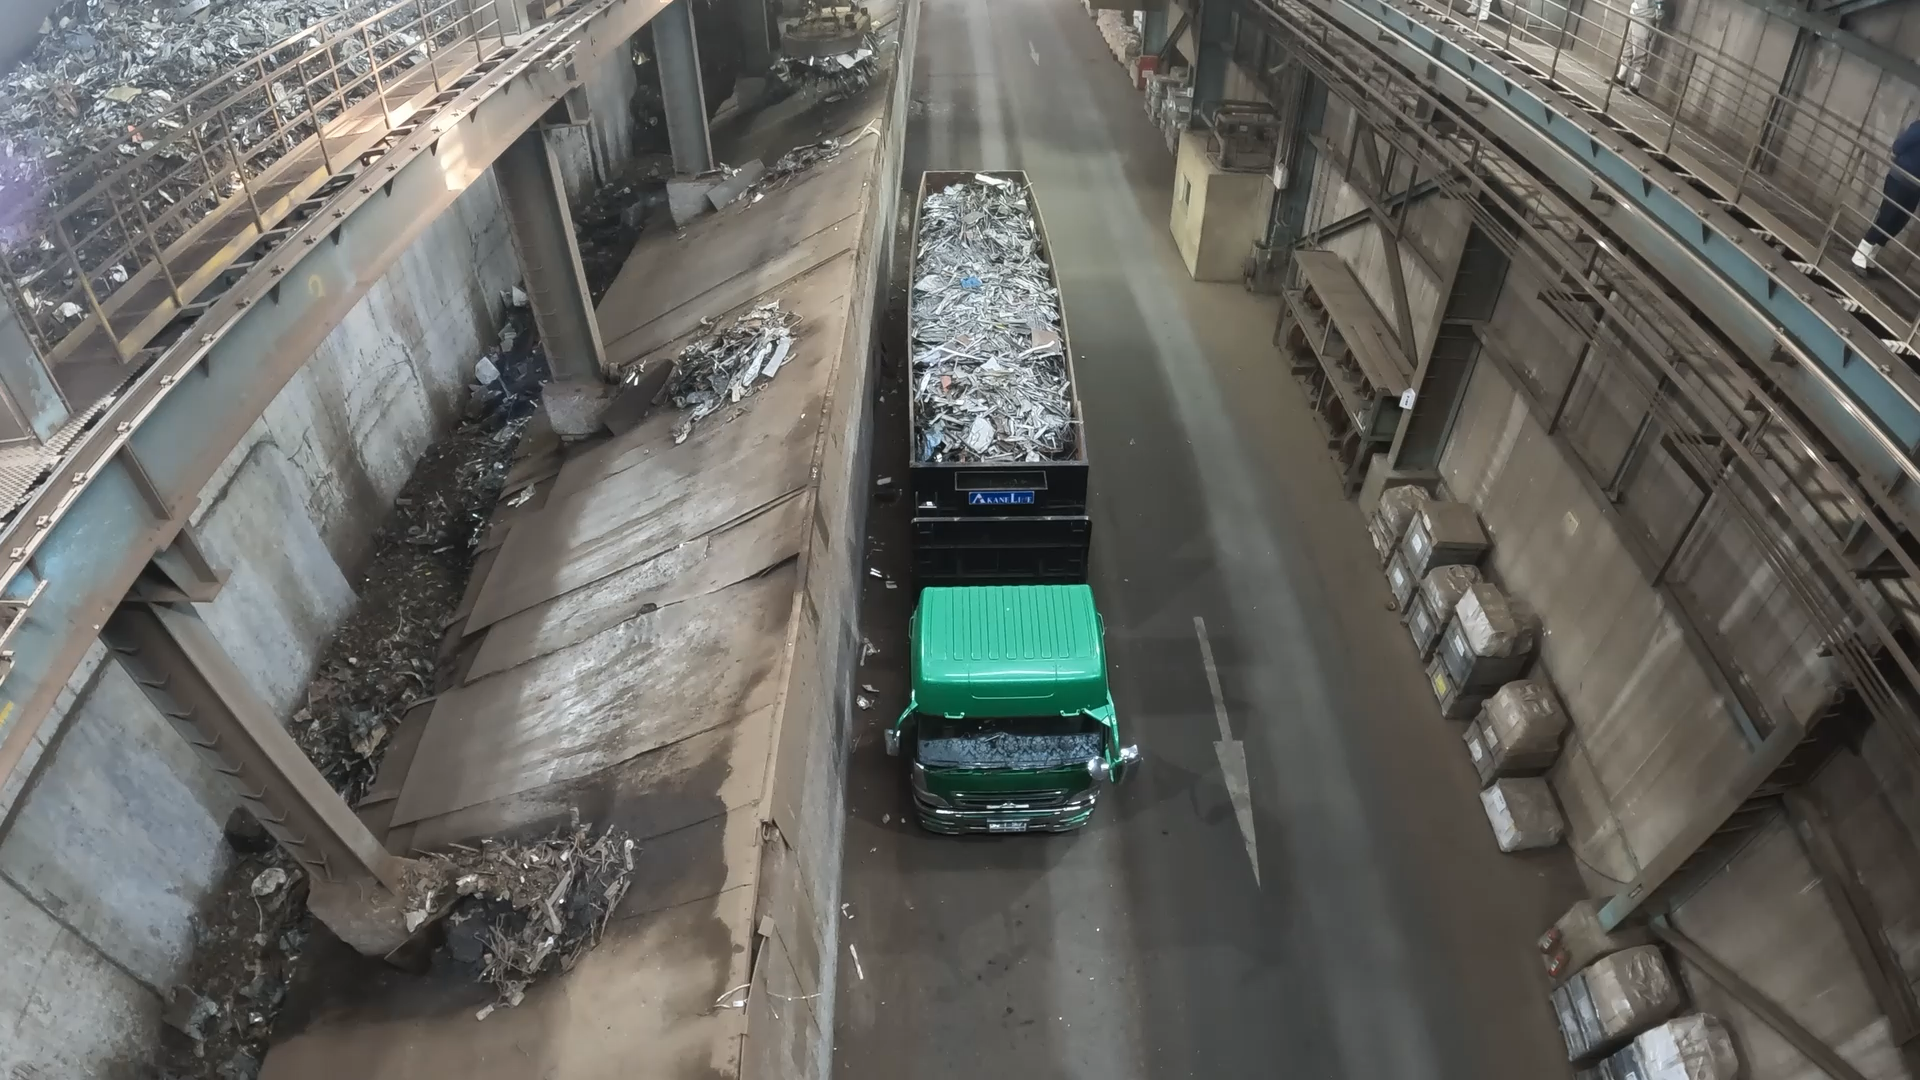truck: (907, 169, 1089, 469)
